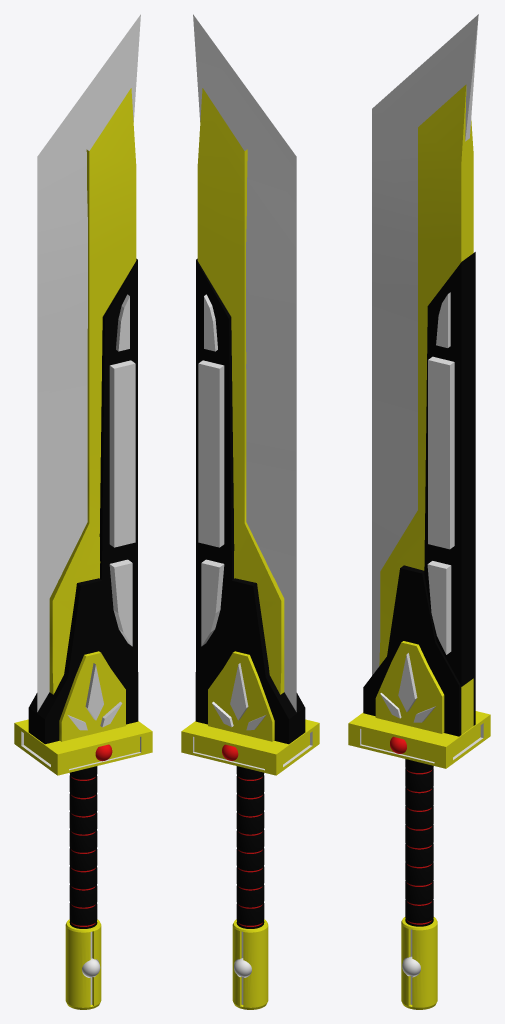
The model's file is golden sword.fbx.
The picture shows the model from 3 angles, left to right: view 1: azimuth 30°, elevation 25°; view 2: azimuth 150°, elevation 25°; view 3: azimuth 330°, elevation 25°; orthographic projection. The views are drawn at different scales.
Parts seen in each view (by area): view 1: Cube.005, Cube.004, Cube.006, Cube.001, Cube.008, Cylinder, Cube, Cube.002, Cylinder.001, Cube.007, Cube.003; view 2: Cube.005, Cube.004, Cube.006, Cube.001, Cube.008, Cylinder, Cube, Cube.002, Cylinder.001, Cube.007, Cube.003; view 3: Cube.005, Cube.004, Cube.006, Cube.001, Cube.008, Cylinder, Cube, Cube.002, Cylinder.001, Cube.007, Cube.003.
Part boxes in pixels (x1,y1,x2,y2): Cube.005: (37,14,140,711); Cube.004: (49,88,136,694); Cube.006: (99,258,137,670); Cube.001: (28,578,138,744); Cube.008: (109,360,135,547); Cylinder: (69,766,97,928); Cube: (14,719,152,775); Cube.002: (59,651,125,741); Cylinder.001: (65,919,101,1009); Cube.007: (109,294,132,646); Cube.003: (67,663,122,730); Cube.005: (193,14,296,711); Cube.004: (197,88,284,694); Cube.006: (196,258,234,670); Cube.001: (195,578,305,744); Cube.008: (198,360,224,547); Cylinder: (236,766,264,928); Cube: (181,719,319,775); Cube.002: (208,651,274,741); Cylinder.001: (232,919,268,1009); Cube.007: (201,294,224,646); Cube.003: (212,663,266,730); Cube.005: (372,14,478,675); Cube.004: (379,84,473,734); Cube.006: (424,252,475,686); Cube.001: (363,565,475,736); Cube.008: (428,356,454,549); Cylinder: (405,759,433,926); Cube: (348,711,490,768); Cube.002: (375,641,444,733); Cylinder.001: (401,917,437,1009); Cube.007: (427,292,451,654); Cube.003: (380,653,435,722).
Size of the model in its own units: 103 by 912 by 80.47.
